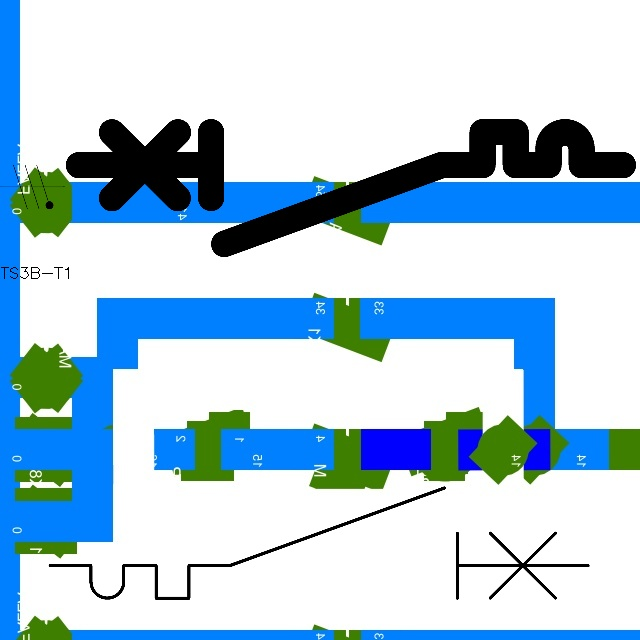interruptor_termomagnetico: (64, 118, 636, 258), (36, 474, 602, 612)
